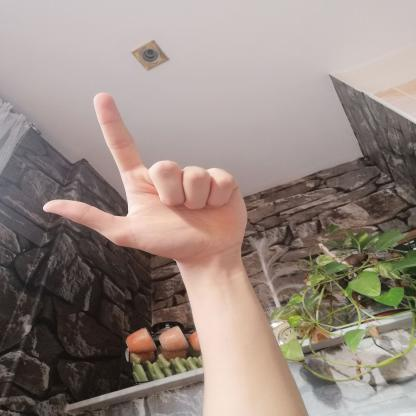LAAM: (28, 84, 259, 270)
